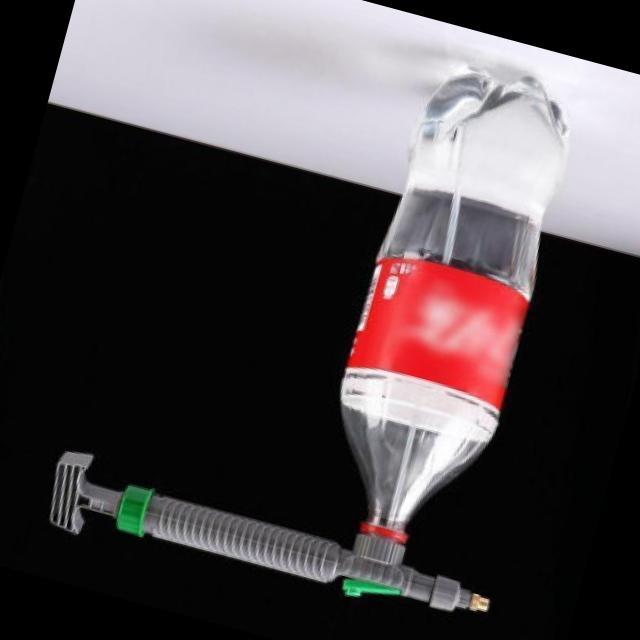plastic_bottle: (298, 49, 586, 582)
